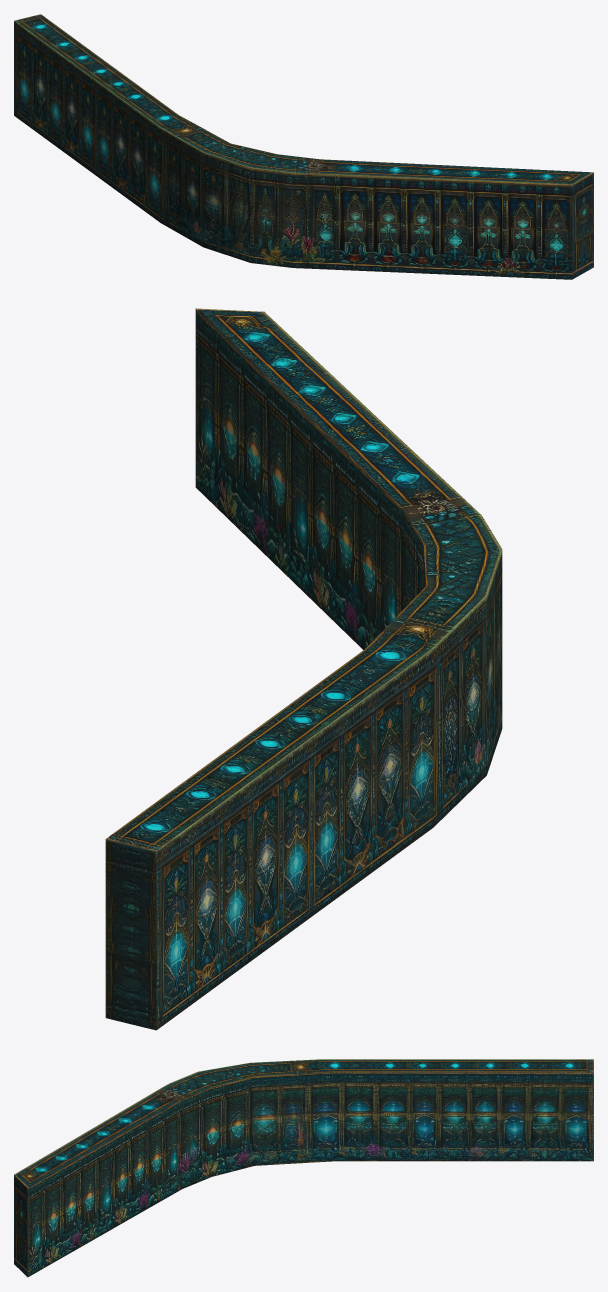
The model's file is ramp_pale_down_left_death_lvl_2.glb.
3 renders of one model, top to bottom at view 1: azimuth 30°, elevation 25°; view 2: azimuth 150°, elevation 25°; view 3: azimuth 270°, elevation 25°, orthographic. The views are drawn at different scales.
Parts seen in each view (by area): view 1: Mesh_0.007; view 2: Mesh_0.007; view 3: Mesh_0.007.
Part boxes in pixels (x1,y1,x2,y2): Mesh_0.007: (14,14,593,279); Mesh_0.007: (105,308,502,1030); Mesh_0.007: (14,1059,593,1277).
Size of the model in its own units: 0.1275 by 0.0414 by 0.2431.
Materials: 1 (1 with a texture image).
